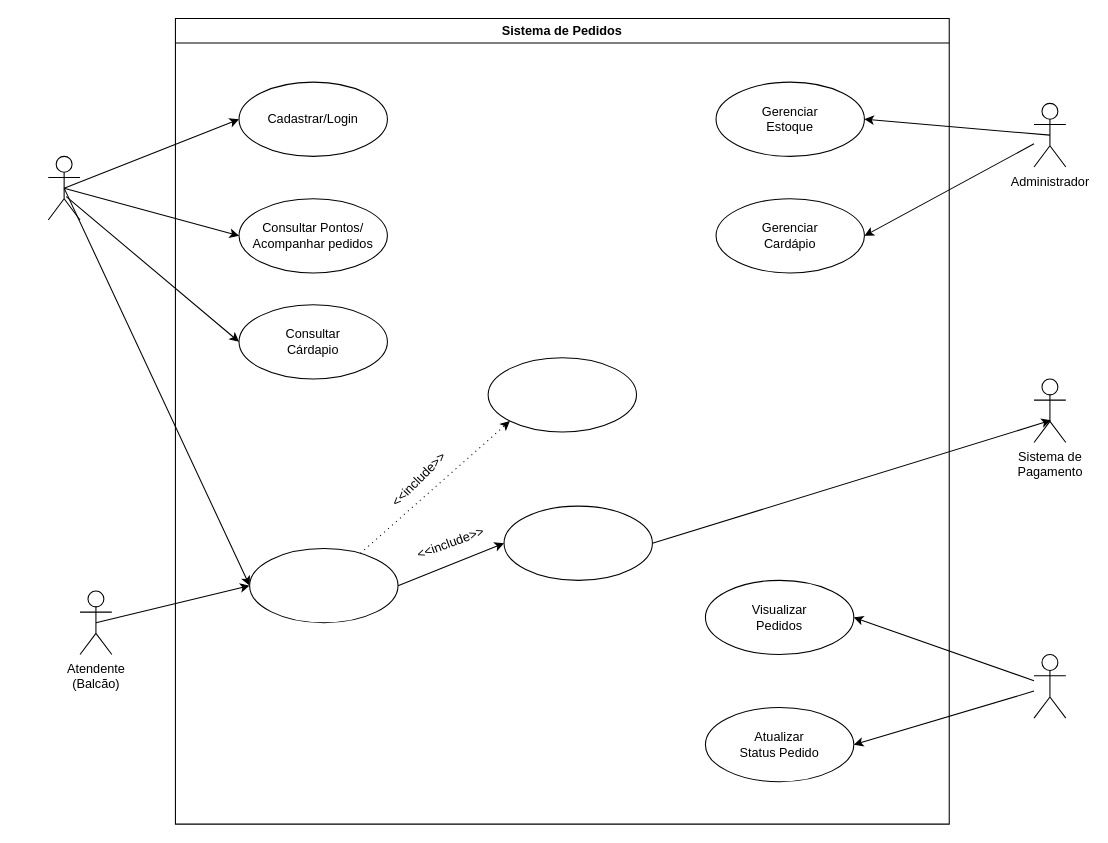
The diagram is 1108 pixels wide and 843 high, and some of its shapes have lost their labels. The box of each missing label's shape, as (x1, y1, x2, y2) in pixels:
Cliente (web/totem/app): (47, 155, 80, 220)
Cozinha: (1033, 653, 1066, 718)
Realizar Pedido: (249, 547, 398, 623)
Solicitar Pagamento: (503, 505, 652, 580)
Verificar Estoques: (487, 357, 637, 432)
